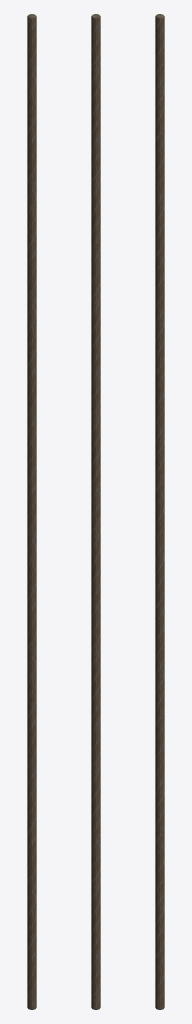
The model's file is day.fbx.
3 views of the same model, side by side, from view 1: azimuth 30°, elevation 25°; view 2: azimuth 150°, elevation 25°; view 3: azimuth 330°, elevation 25° (orthographic).
Visible parts, largest first — view 1: String_Cylinder.003; view 2: String_Cylinder.003; view 3: String_Cylinder.003.
Part boxes in pixels (x1,y1,x2,y2): String_Cylinder.003: [27, 14, 36, 1009]; String_Cylinder.003: [91, 14, 100, 1009]; String_Cylinder.003: [155, 14, 164, 1009].
Size of the model in its own units: 2.17 by 251 by 2.18.
